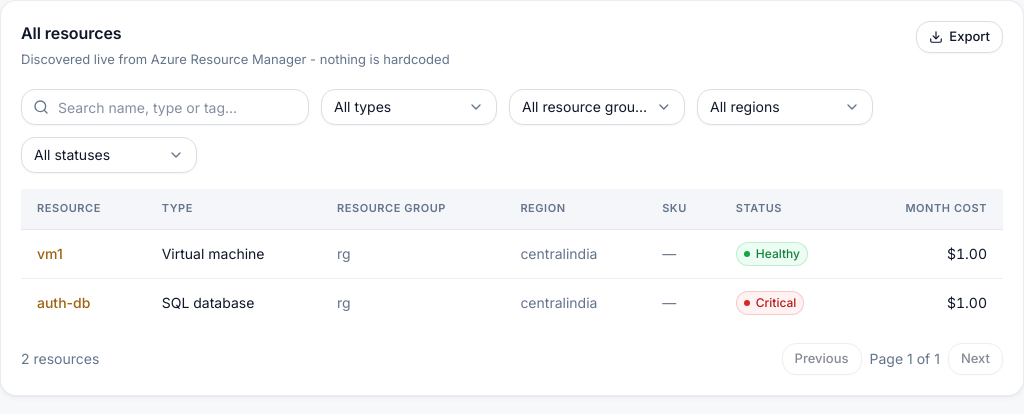
Test: AzureResourcesPage › filters resources by search text and type
Expected: the link "vm1" is shown, x1=37 y1=244 x2=63 y2=262
Expected: the link "auth-db" is shown, x1=37 y1=294 x2=90 y2=310
Type "auth" into the search field.
click(165, 107); type("auth")  # box x1=21 y1=89 x2=309 y2=125
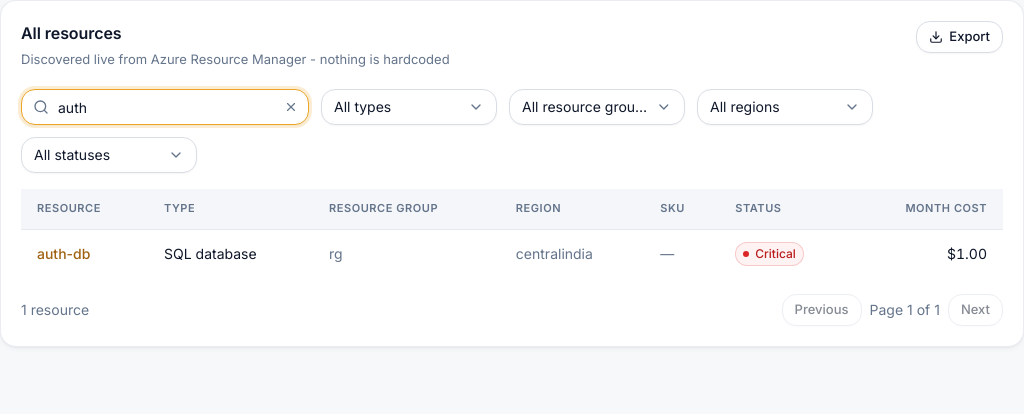
Expected: the link "auth-db" is shown, x1=37 y1=244 x2=90 y2=262
Expected: the link "vm1" is gone
Type "zzz" into the search field.
click(165, 107); type("zzz")  # box x1=21 y1=89 x2=309 y2=125
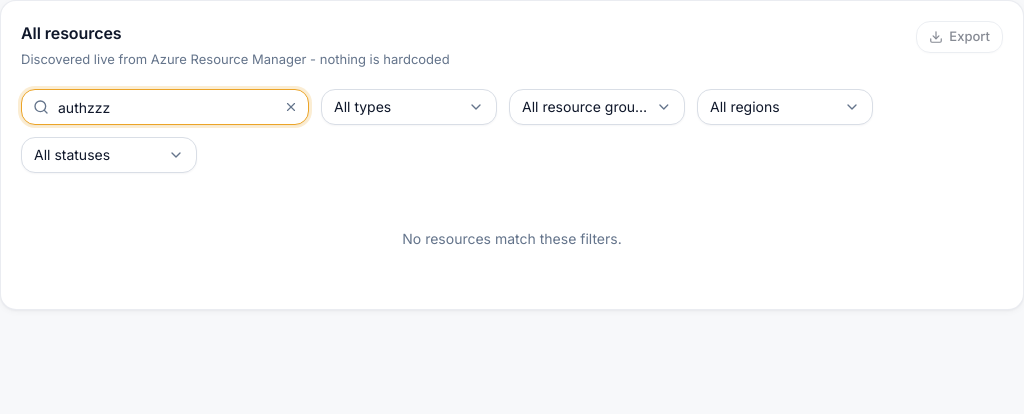
Expected: the text "No resources match these filters." is shown, x1=402 y1=230 x2=622 y2=247
